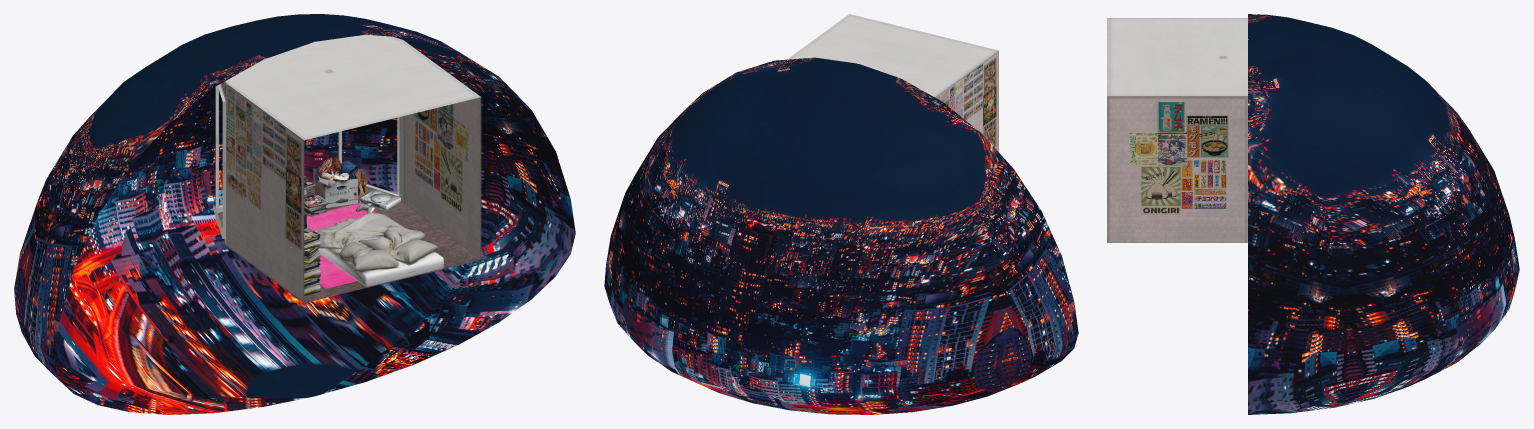
File: school-room.glb
The picture shows the model from 3 angles, left to right: view 1: azimuth 30°, elevation 25°; view 2: azimuth 150°, elevation 25°; view 3: azimuth 270°, elevation 25°; orthographic projection. The views are drawn at different scales.
Parts seen in each view (by area): view 1: Sphere, Cylinder, node_0.001_jn3_0, node_0.003_jn3_0, node_0.008_jn3_0, node_0.013_jn2_0; view 2: Sphere, Cylinder; view 3: Sphere, Cylinder.
Part boxes in pixels (x1,y1,x2,y2): Sphere: (14,14,575,414); Cylinder: (212,34,481,302); node_0.001_jn3_0: (313,213,443,286); node_0.003_jn3_0: (313,157,367,207); node_0.008_jn3_0: (355,189,400,213); node_0.013_jn2_0: (304,259,320,295); Sphere: (604,57,1078,414); Cylinder: (787,14,998,151); Sphere: (1248,14,1519,414); Cylinder: (1107,18,1247,242).
Size of the model in its own units: 9.75 by 6.33 by 7.4.
5 materials, 5 textured.
